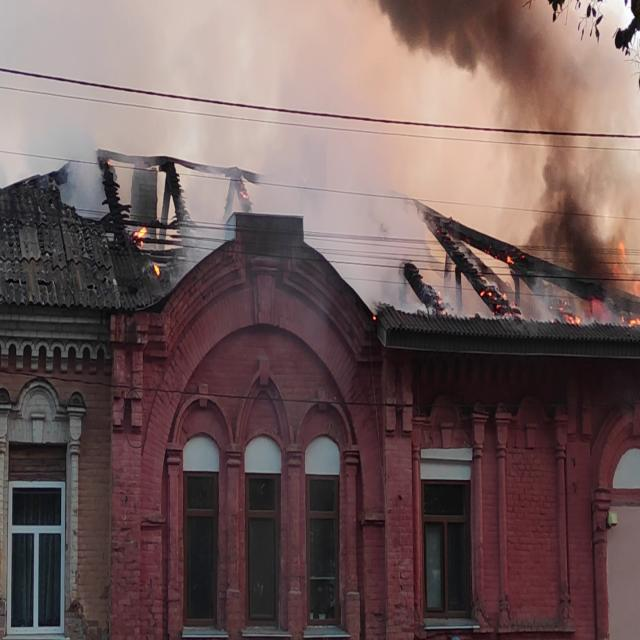fire: (561, 230, 640, 334)
smoke: (391, 1, 533, 63), (541, 198, 600, 286)
